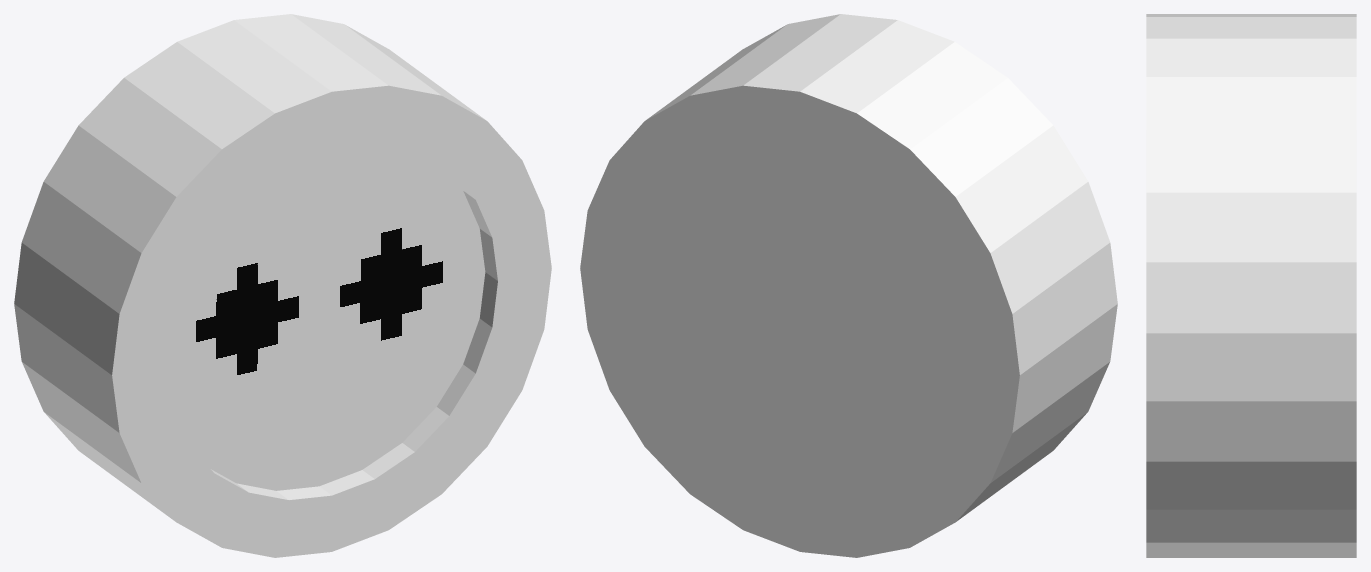
The model's file is socket.glb.
3 renders of one model, left to right at view 1: azimuth 30°, elevation 25°; view 2: azimuth 150°, elevation 25°; view 3: azimuth 270°, elevation 25°, orthographic. The views are drawn at different scales.
Parts seen in each view (by area): view 1: Socket 1; view 2: Socket 1; view 3: Socket 1.
Part boxes in pixels (bbox=[...]): Socket 1: bbox=[14, 14, 551, 557]; Socket 1: bbox=[580, 14, 1117, 557]; Socket 1: bbox=[1146, 14, 1356, 557].
Size of the model in its own units: 0.1577 by 0.1577 by 0.0608.
1 material, 1 textured.
